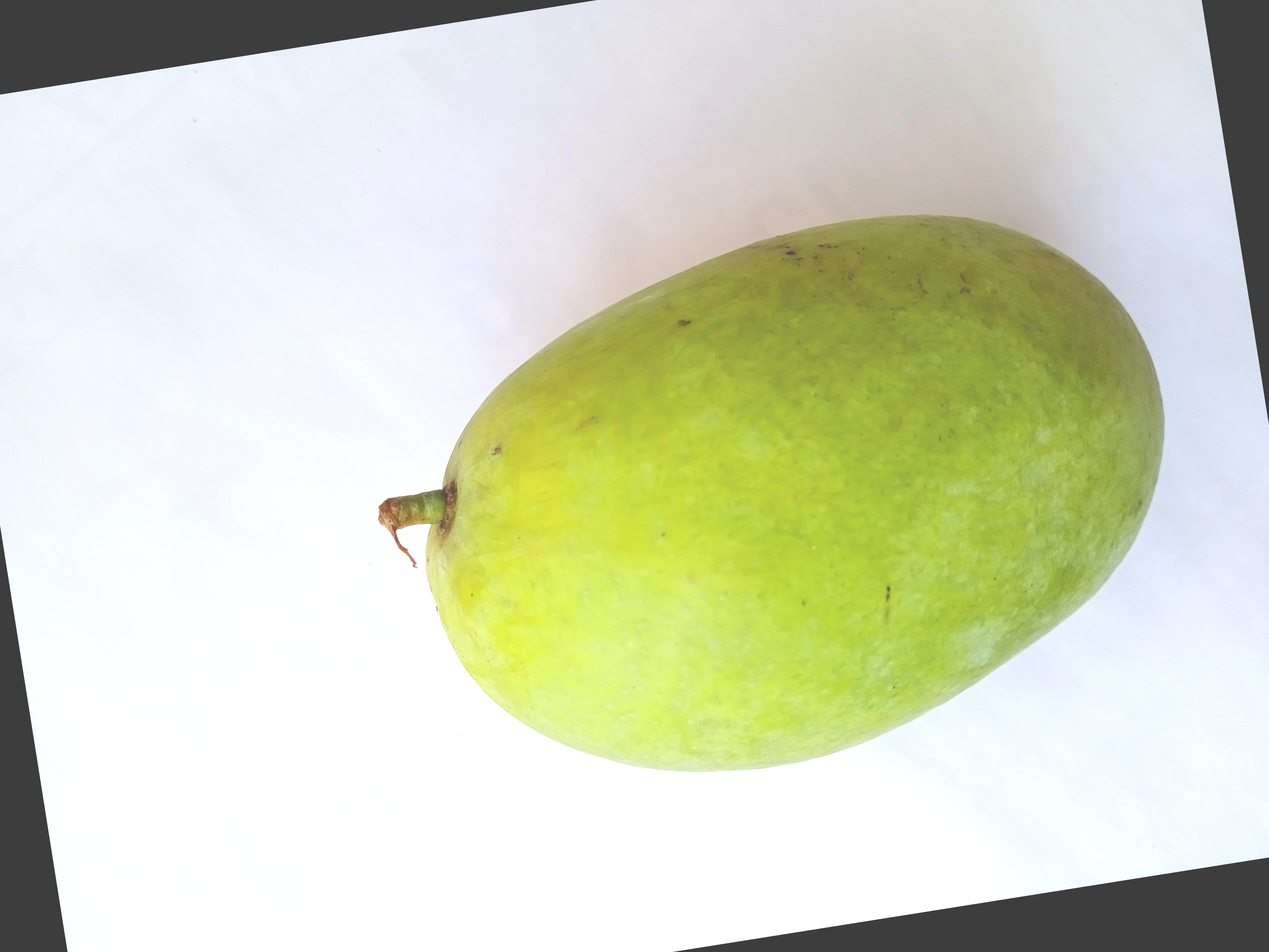Mango Unripe: (203, 268, 1155, 952)
